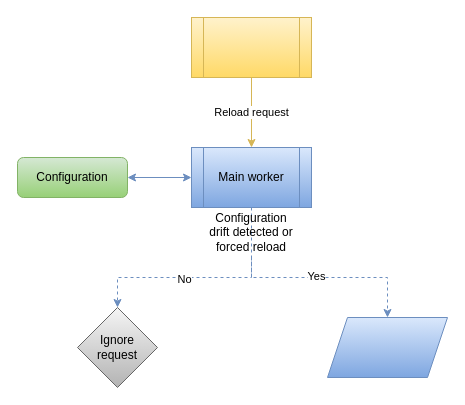
The diagram is 465 pixels wide and 405 high, and some of its shapes have lost their labels. Each missing label, with the centre of its shape:
HTTP server: the point at 251,47
Restart all workers/sites: the point at 387,347
